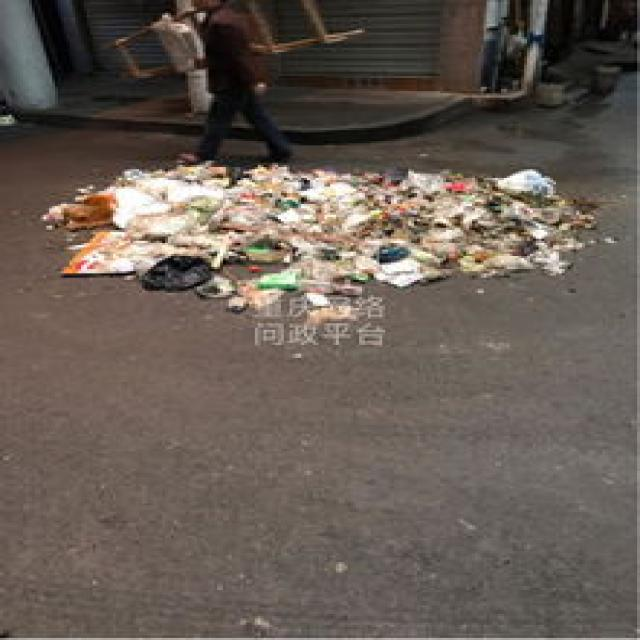garbage: (41, 152, 590, 310)
